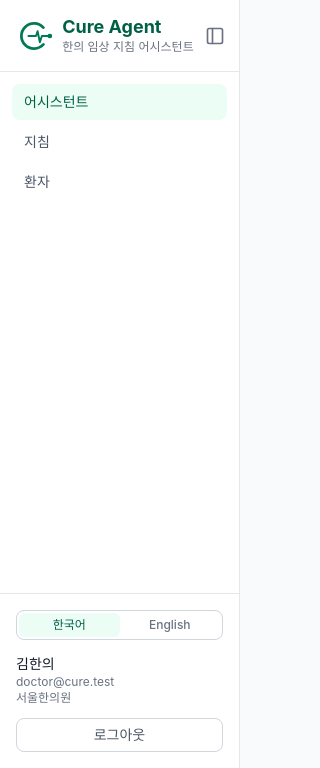
Scenario: AppShell 표시 언어 전환 › English를 누르면 화면 문구가 즉시 영어로 바뀐다
expect the link "어시스턴트" is shown: met, box [12,84,227,120]
Click the button "English" at (170, 625), box [120,613,220,637]
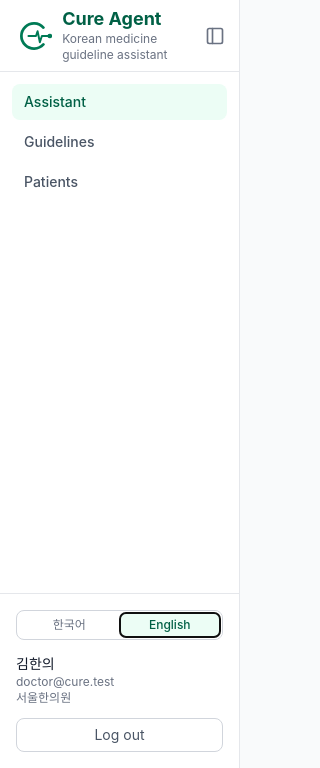
expect the link "Assistant" is shown: met, box [12,84,227,120]
expect the text "어시스턴트" is gone: met
expect the button "Log out" is shown: met, box [16,718,223,752]
